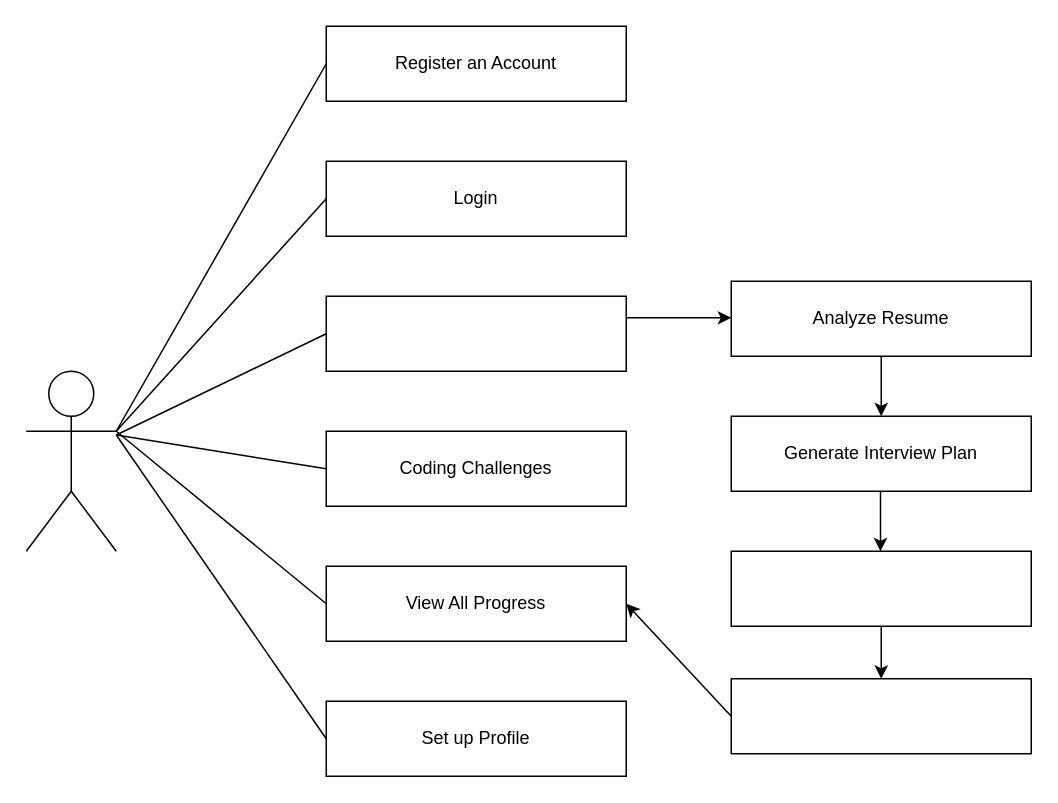
This 1058x803 diagram has some shape labels left out. Here are the shapes that lost their labels. From the top down, the centre of each, then its label:
the point at 475,333: Resume Upload
the point at 70,460: Actor
the point at 880,588: Take Mock Interviews
the point at 880,715: Recieve Ai Feedback
